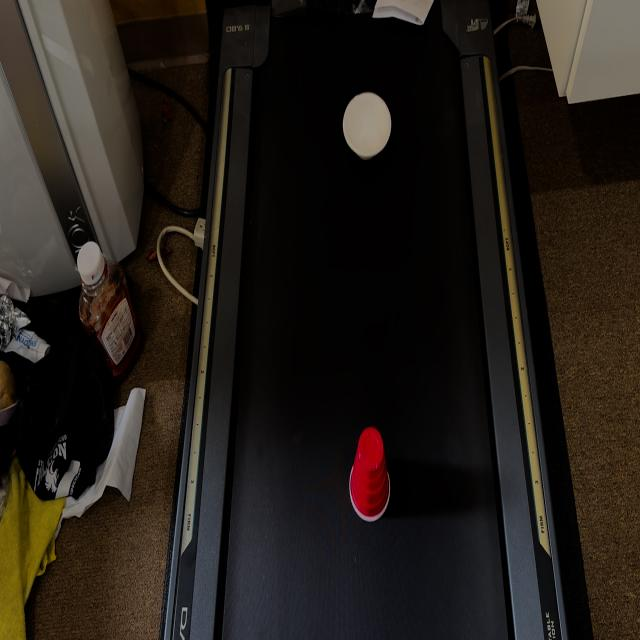Recycle: (350, 424, 390, 522), (342, 90, 392, 159)
